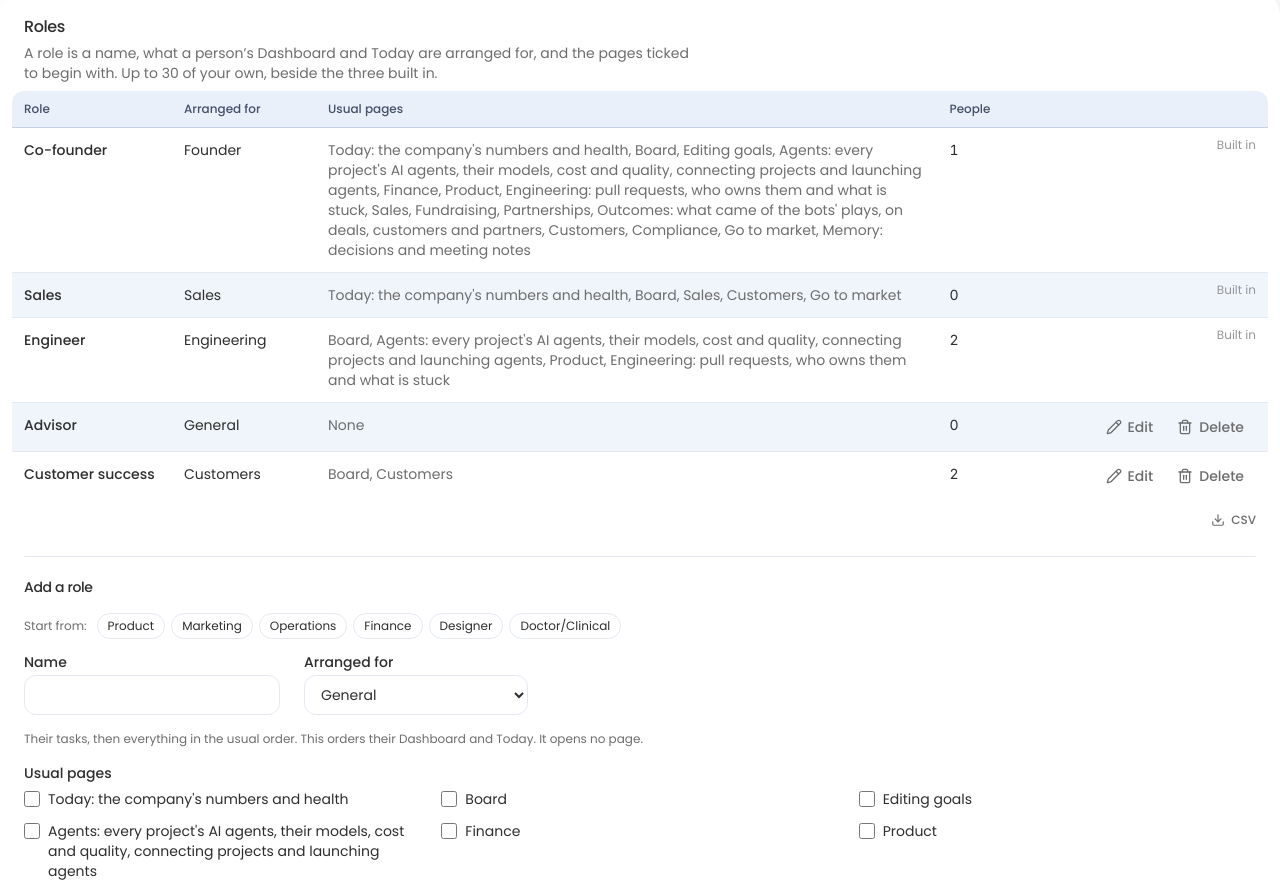
Test: the Roles card › adding: what the server refuses is said, and what was typed is kept
The width and height of the screenshot is (1280, 890).
Type "Advisor" into the field labelled "Name" at (152, 695), box [24,675,280,715]
(page scrolled)
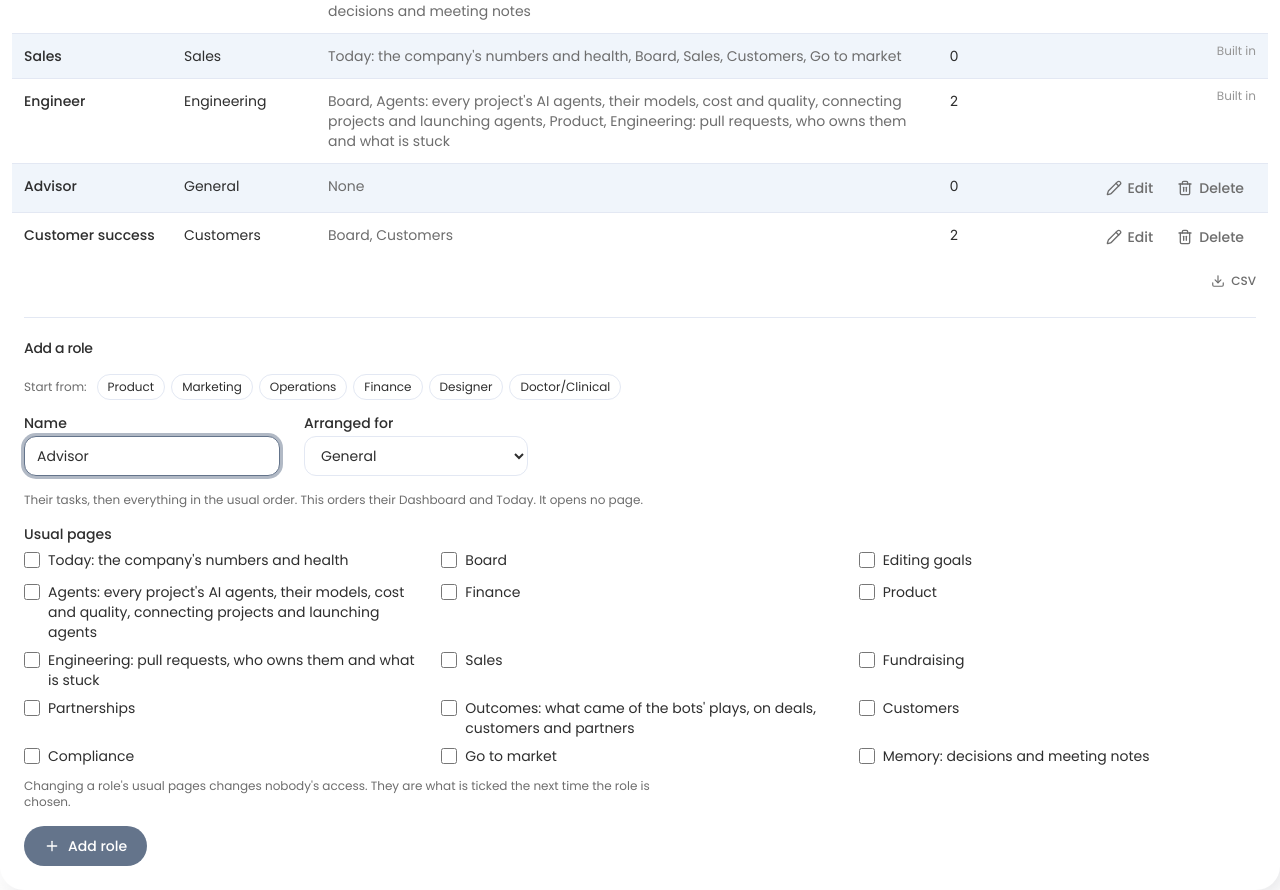
Click the button "Add role" at (86, 846), box [24,826,147,866]
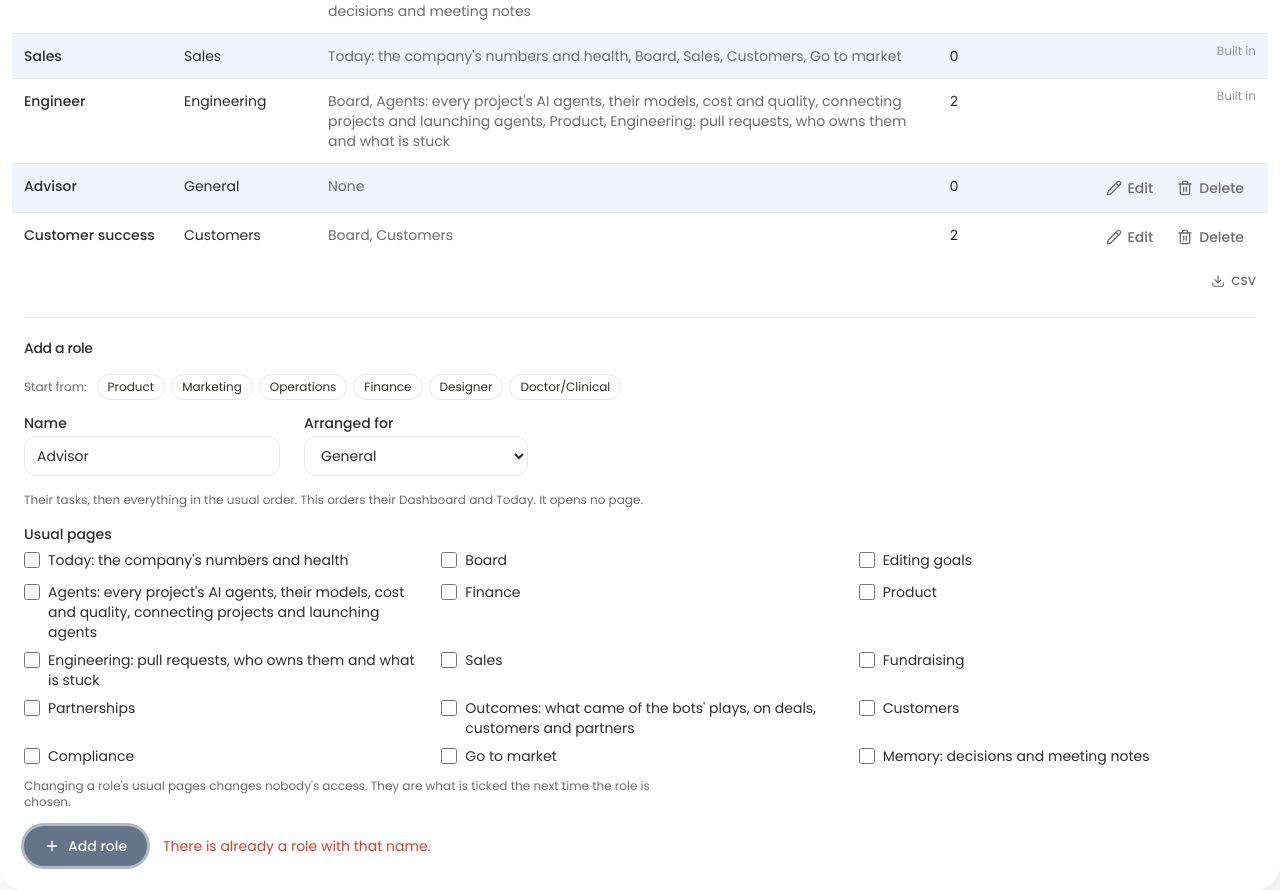
Result: the message reads "There is already a role with that name." at [163,836,430,856]
